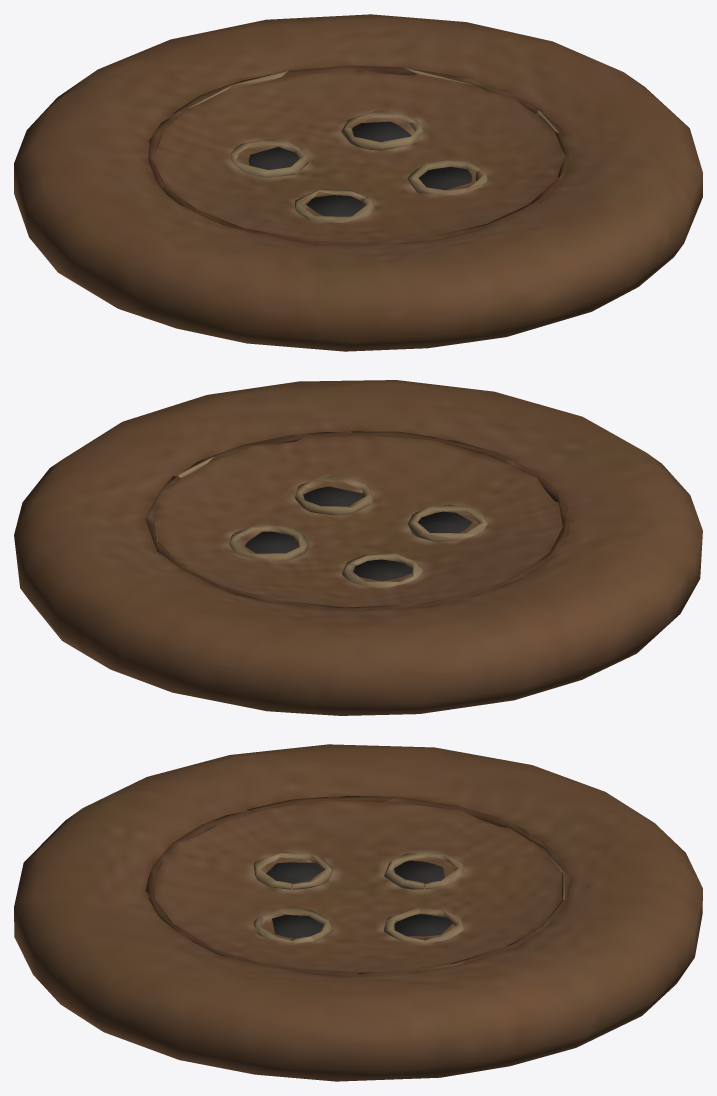
Rendered from snow_button.glb.
3 views of the same model, one above another, from view 1: azimuth 30°, elevation 25°; view 2: azimuth 150°, elevation 25°; view 3: azimuth 270°, elevation 25° (orthographic).
Visible parts, largest first — view 1: prop_snow_button_wood, prop_snow_button_felt; view 2: prop_snow_button_wood, prop_snow_button_felt; view 3: prop_snow_button_wood, prop_snow_button_felt.
Boxes of the visible parts, x1,y1,x2,y2 form: prop_snow_button_wood: (14, 14, 702, 351); prop_snow_button_felt: (248, 121, 471, 216); prop_snow_button_wood: (14, 380, 702, 715); prop_snow_button_felt: (245, 486, 472, 581); prop_snow_button_wood: (14, 744, 702, 1081); prop_snow_button_felt: (266, 860, 452, 938).
Bounding box in the file's own units: 0.5003 × 0.0581 × 0.5003.
2 materials, 2 textured.
